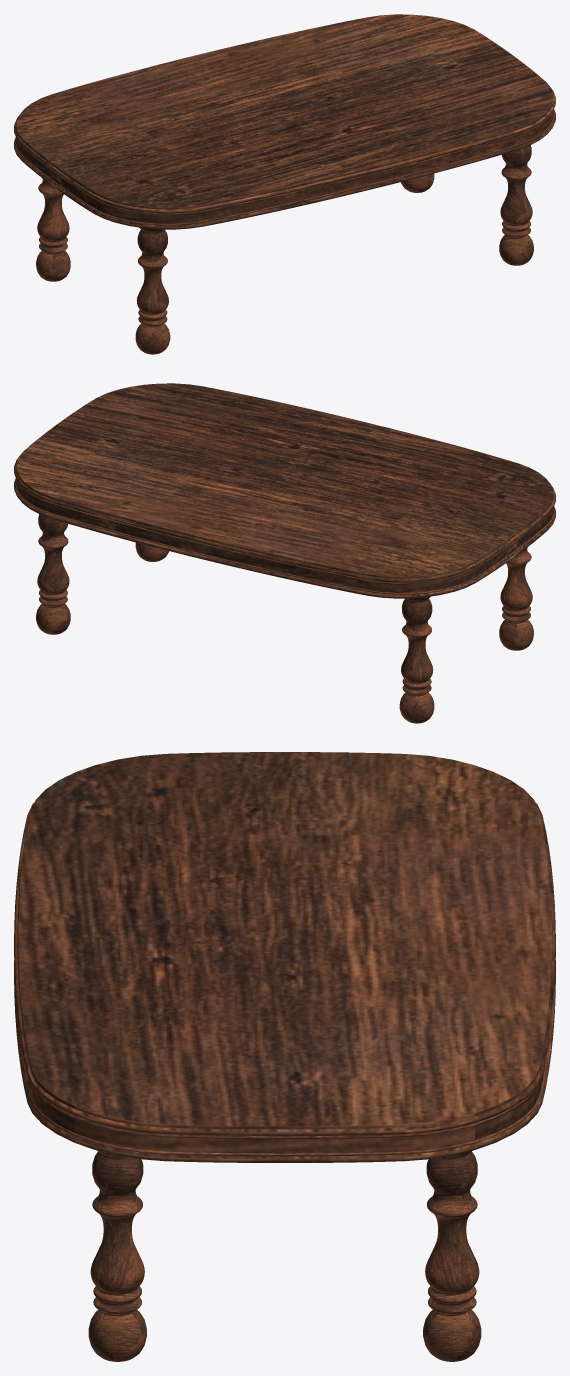
The picture shows the model from 3 angles, top to bottom: view 1: azimuth 30°, elevation 25°; view 2: azimuth 150°, elevation 25°; view 3: azimuth 270°, elevation 25°; orthographic projection. The views are drawn at different scales.
Parts seen in each view (by area): view 1: Plane; view 2: Plane; view 3: Plane.
Part boxes in pixels (x1=…): Plane: x1=14, y1=14, x2=555, y2=354; Plane: x1=14, y1=383, x2=555, y2=723; Plane: x1=14, y1=752, x2=555, y2=1361.
Size of the model in its own units: 192 by 64.14 by 117.
Materials: 1 (1 with a texture image).
